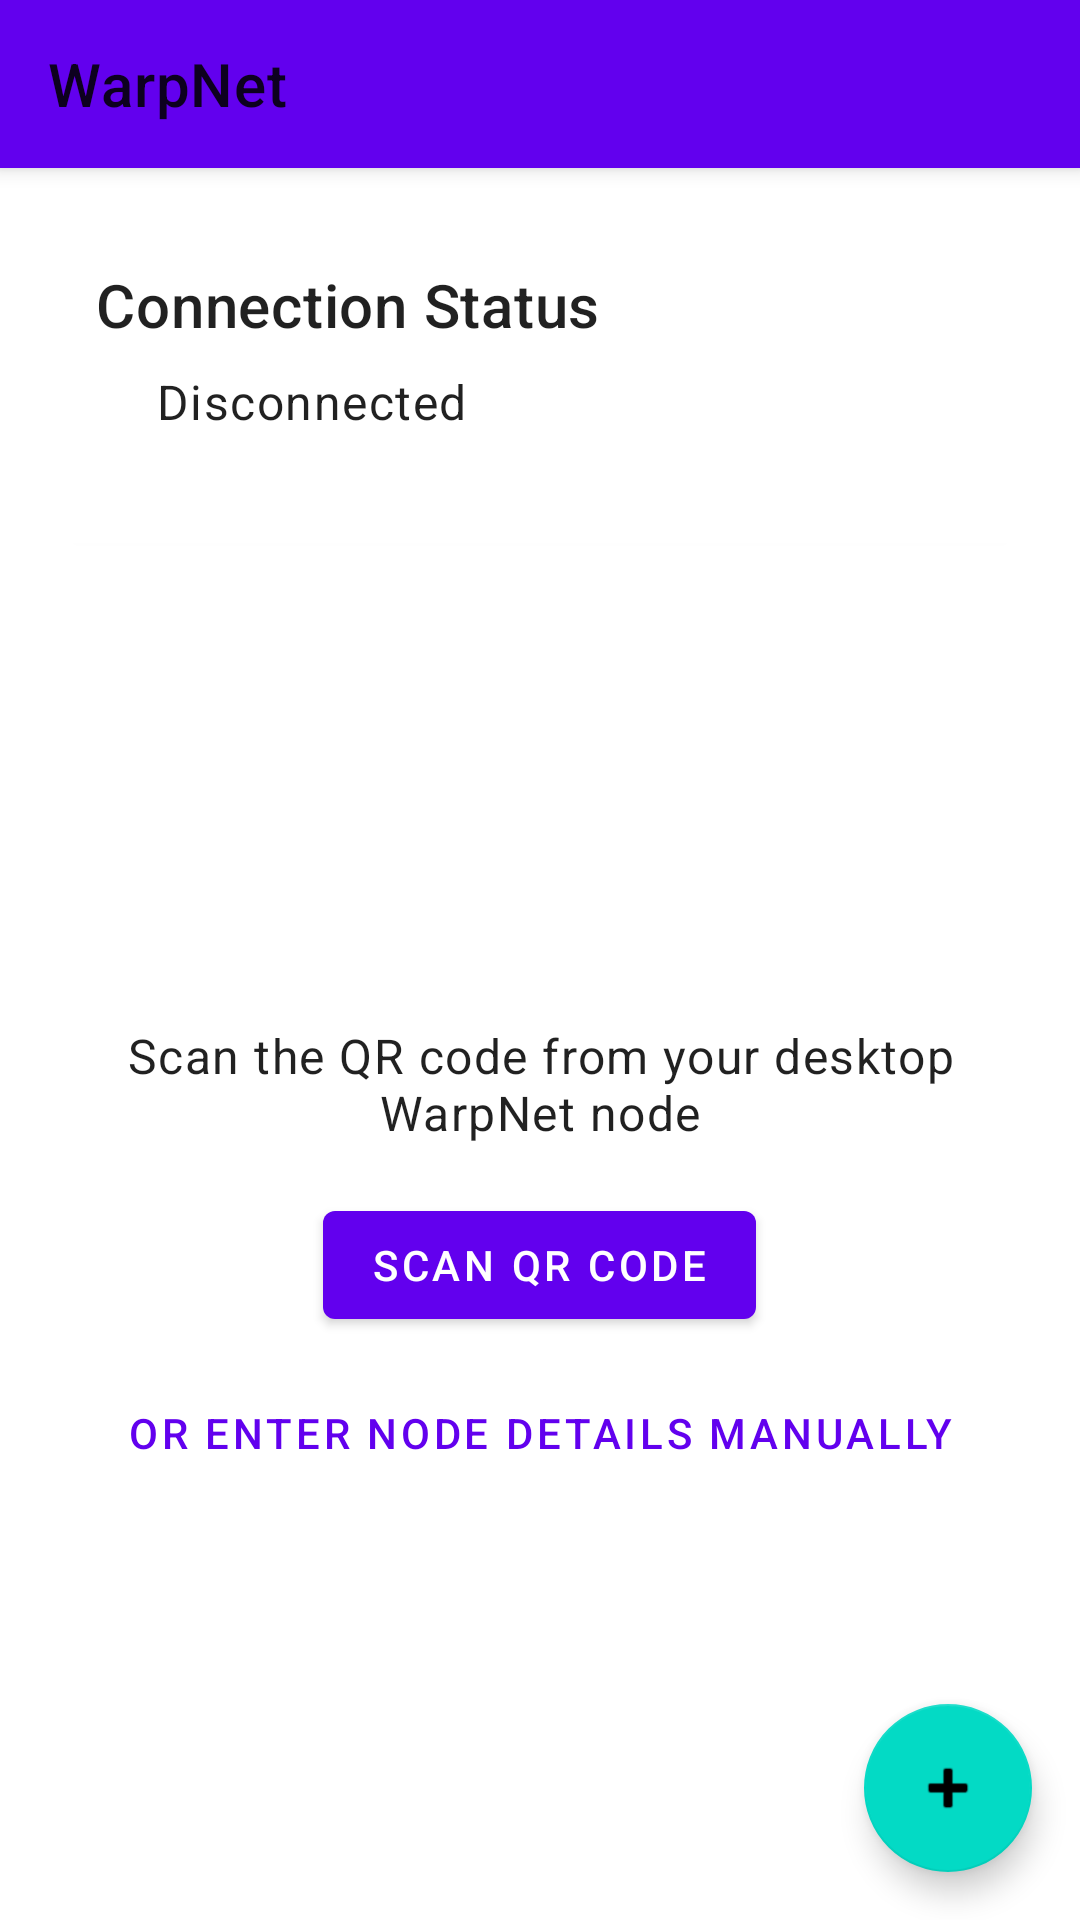

Icons on this 1080*1920 Android screen, each with its box as (x1, y1, x2, y2):
Post: (864, 1704, 1032, 1872)
